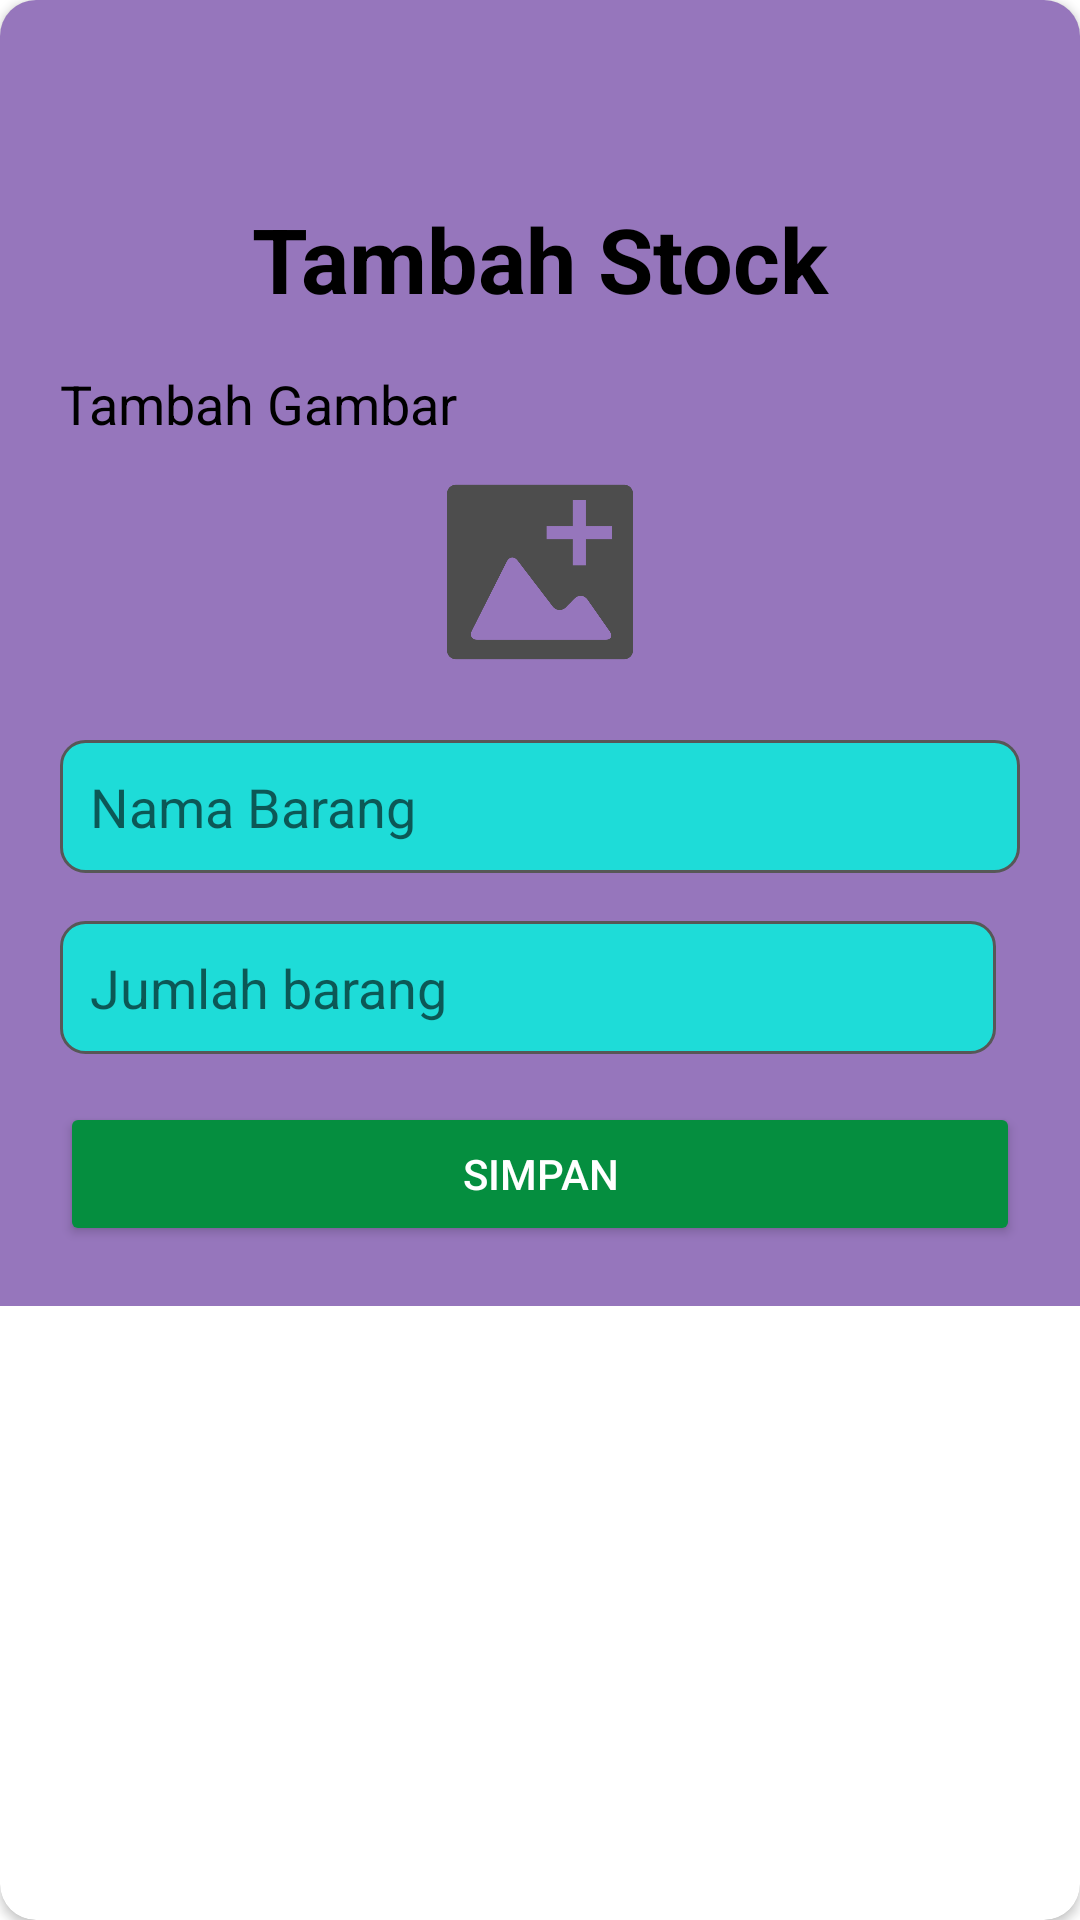

Icons on this 1080px x 1920px Android screen, each with its box as [x1,y1,x2,y2]:
insert: [447,485,633,659]
